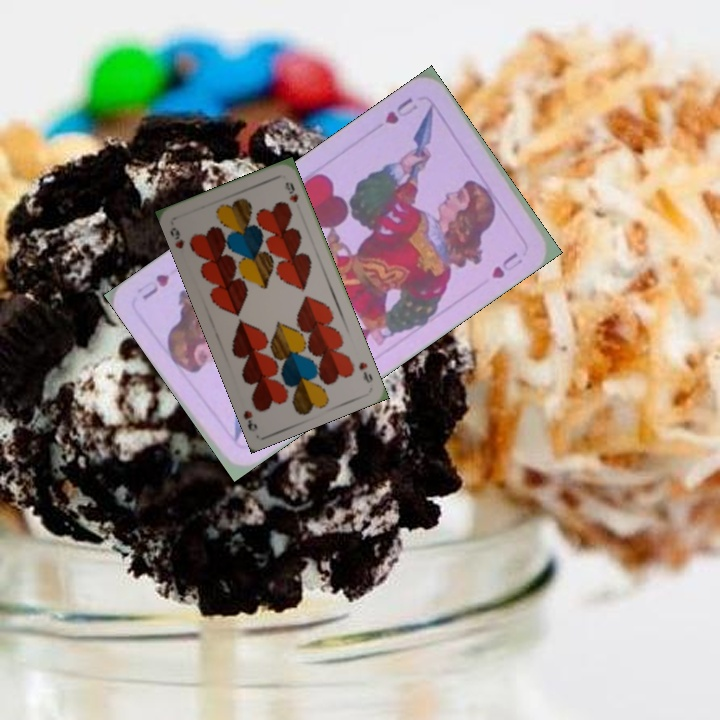H9: (166, 223, 188, 251), (354, 358, 375, 385)
HU: (381, 93, 421, 127)
